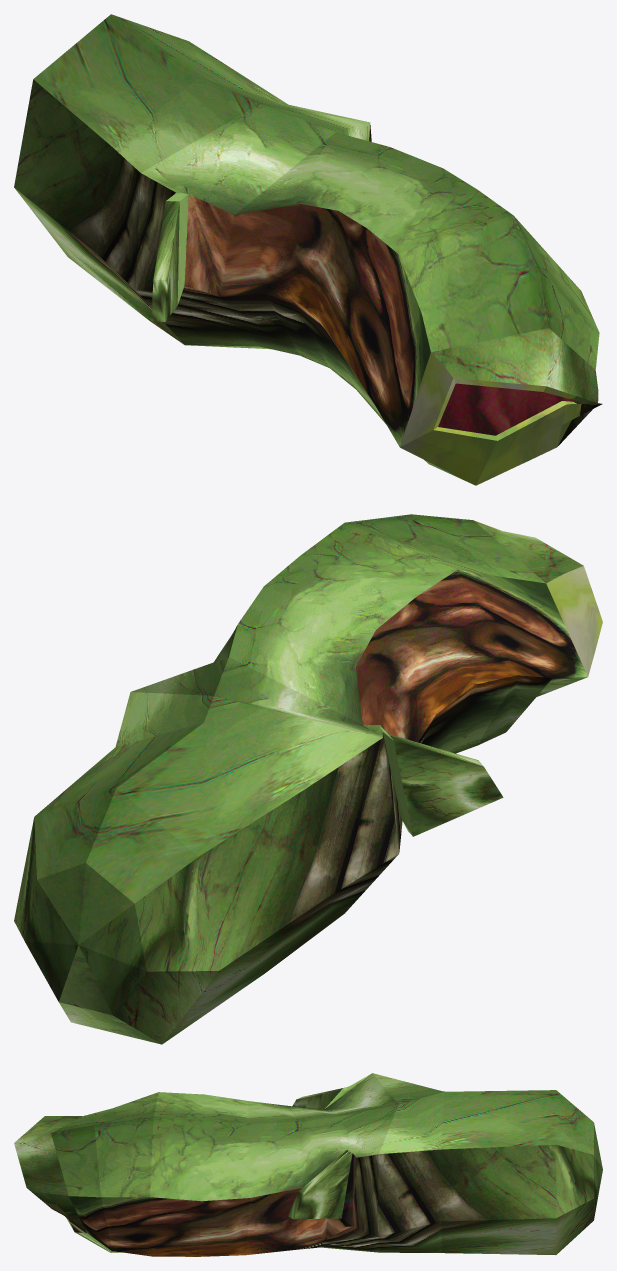
The model's file is GlobberGun.obj.
3 renders of one model, top to bottom at view 1: azimuth 30°, elevation 25°; view 2: azimuth 150°, elevation 25°; view 3: azimuth 270°, elevation 25°, orthographic. The views are drawn at different scales.
Parts seen in each view (by area): view 1: Cylinder; view 2: Cylinder; view 3: Cylinder.
Part boxes in pixels (<box>): Cylinder: <box>14,14,602,485</box>; Cylinder: <box>14,514,602,1044</box>; Cylinder: <box>14,1073,602,1256</box>.
Size of the model in its own units: 0.5978 by 0.4134 by 1.43.
